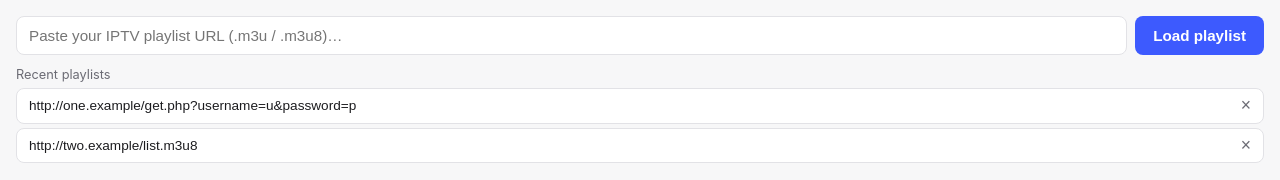
Test: PlaylistLoader › history › clicking an entry fills the input and loads that URL
What coordinates should you click on to do the following:
click the button "http://two.example/list.m3u8"
I would click on:
 (113, 145)
Its box is [17,130,1229,161].
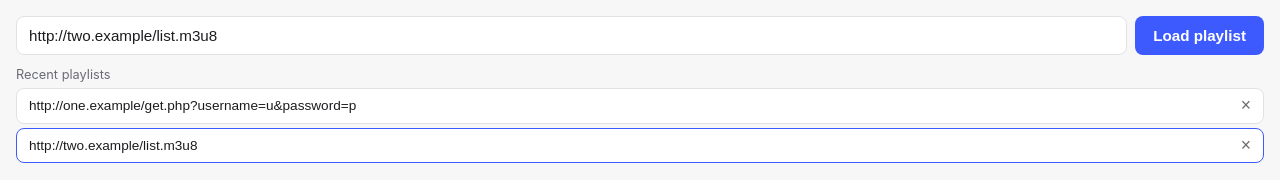
Expected: the field with placeholder "Paste your IPTV playlist URL (.m3u / .m3u8)…" holds "http://two.example/list.m3u8", [16,16,1127,55]
